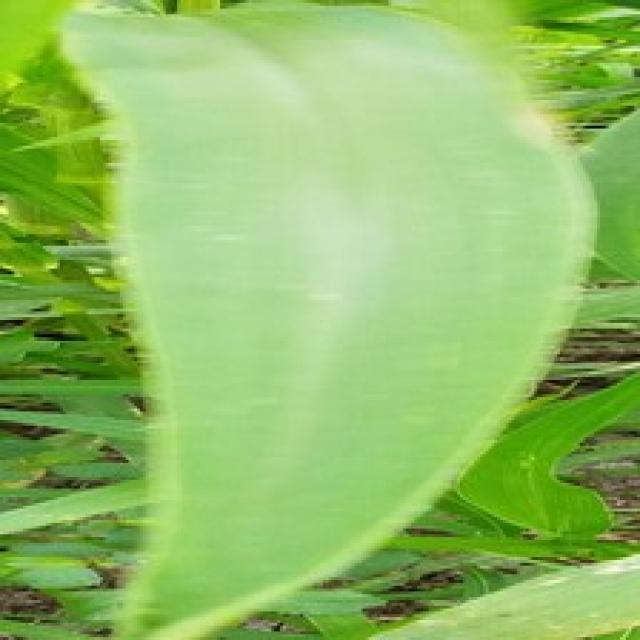Corn: (52, 0, 597, 637), (454, 357, 637, 537), (574, 83, 637, 288)
